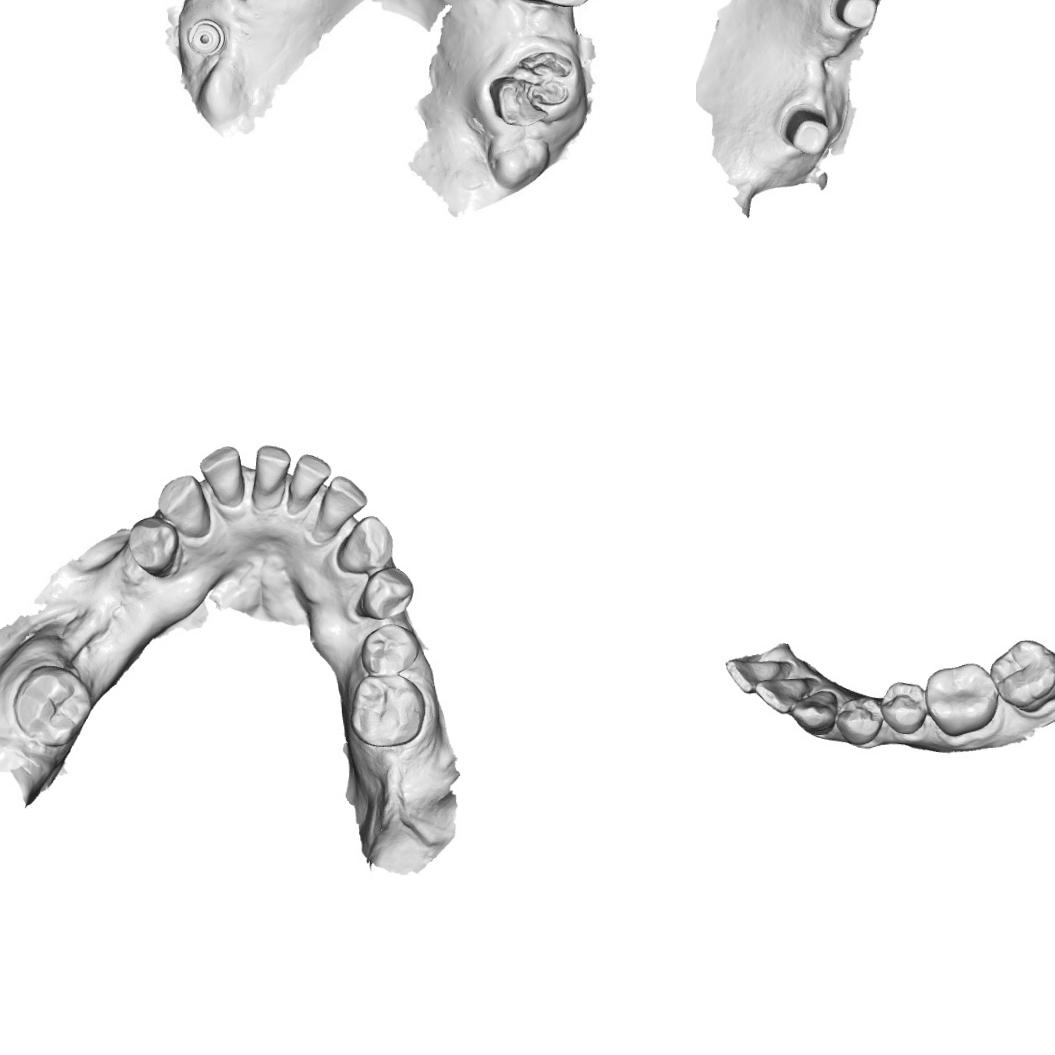abutment: (775, 100, 830, 160), (830, 0, 880, 33)
canine: (156, 474, 213, 541), (334, 514, 395, 575), (789, 688, 839, 736)
implant: (178, 17, 230, 66)
incisor: (312, 474, 369, 536), (247, 443, 294, 515), (283, 452, 333, 516), (198, 444, 246, 509), (723, 654, 791, 696), (753, 676, 815, 717)
molar: (11, 663, 96, 747), (922, 660, 1000, 738), (348, 672, 426, 748), (987, 637, 1055, 713)
premolar: (126, 514, 180, 580), (353, 564, 415, 621), (358, 622, 421, 677), (878, 680, 927, 736), (834, 694, 884, 746)
